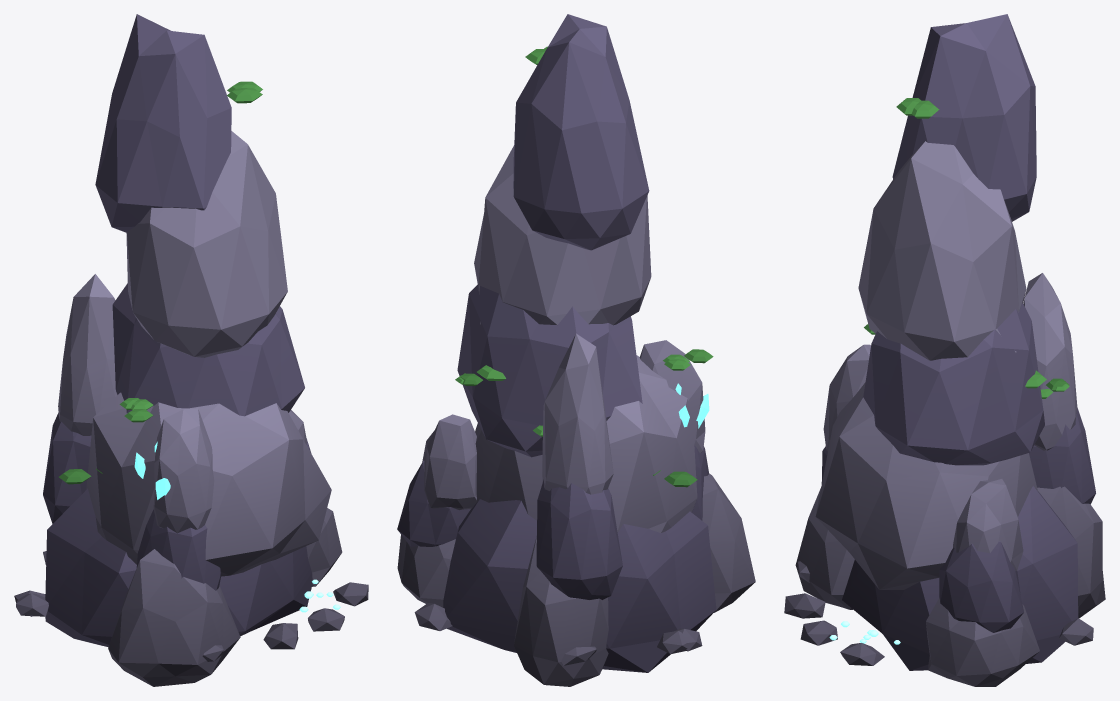
Rendered from cliff_b.glb.
3 renders of one model, left to right at view 1: azimuth 30°, elevation 25°; view 2: azimuth 150°, elevation 25°; view 3: azimuth 270°, elevation 25°, orthographic. The views are drawn at different scales.
Visible parts, largest first — view 1: t0_rock_light, t0_rock, t0_moss; view 2: t0_rock, t0_rock_light, t0_moss; view 3: t0_rock_light, t0_rock, t0_moss.
Boxes of the visible parts, x1,y1,x2,y2 form: t0_rock_light: [14, 131, 368, 686]; t0_rock: [43, 14, 312, 647]; t0_moss: [59, 81, 262, 484]; t0_rock: [397, 14, 716, 672]; t0_rock_light: [397, 145, 755, 686]; t0_moss: [455, 46, 713, 487]; t0_rock_light: [784, 141, 1105, 686]; t0_rock: [821, 14, 1095, 670]; t0_moss: [864, 98, 1069, 398].
Bounding box in the file's own units: 3.91 × 7.51 × 3.53.
